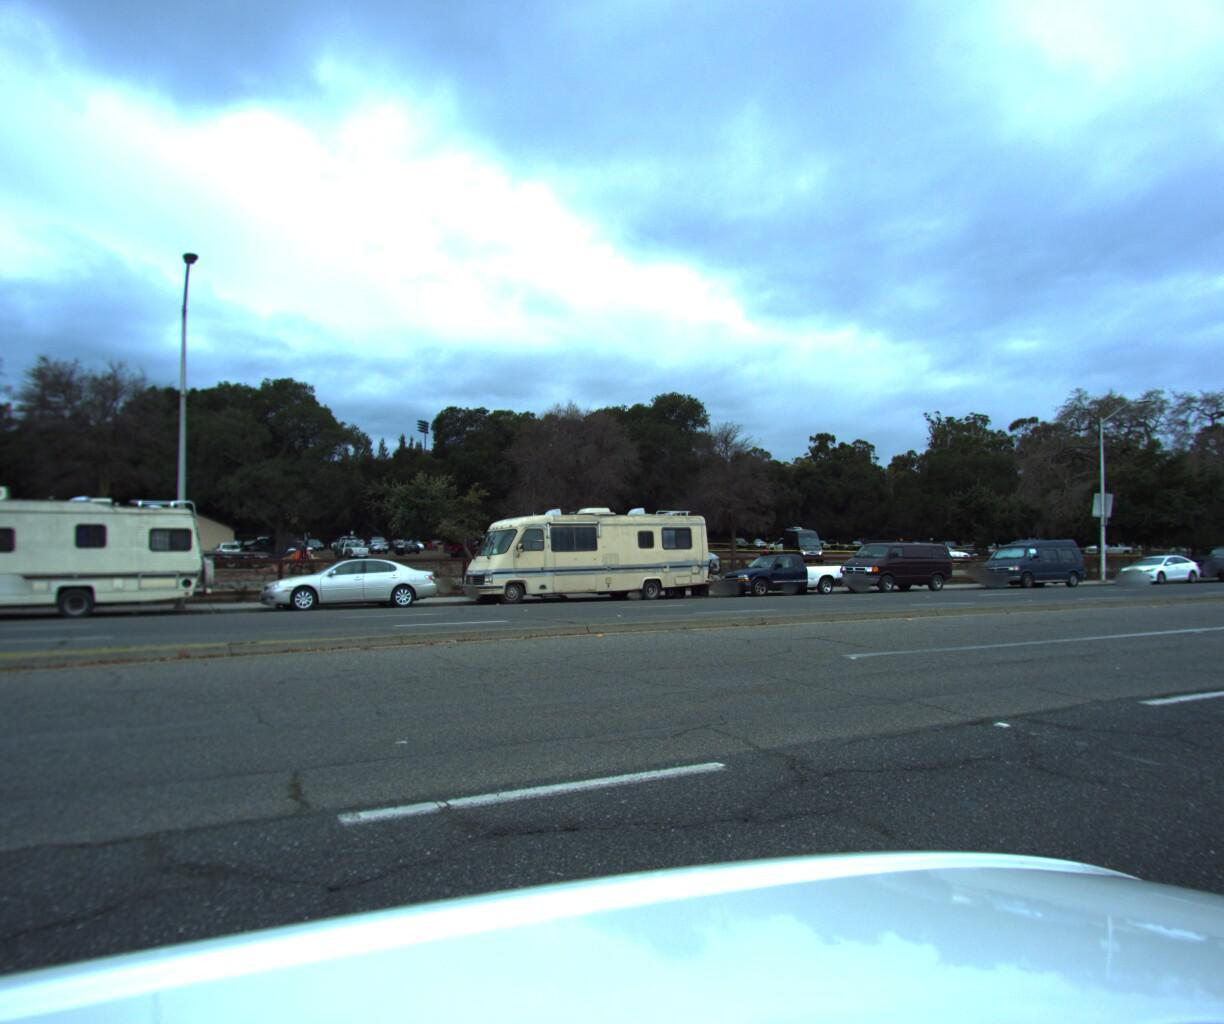car: (251, 553, 443, 612), (715, 548, 848, 599), (831, 537, 956, 591), (970, 537, 1086, 586), (1106, 549, 1200, 582), (1169, 540, 1224, 579)
other_vehicle: (452, 499, 721, 607)
